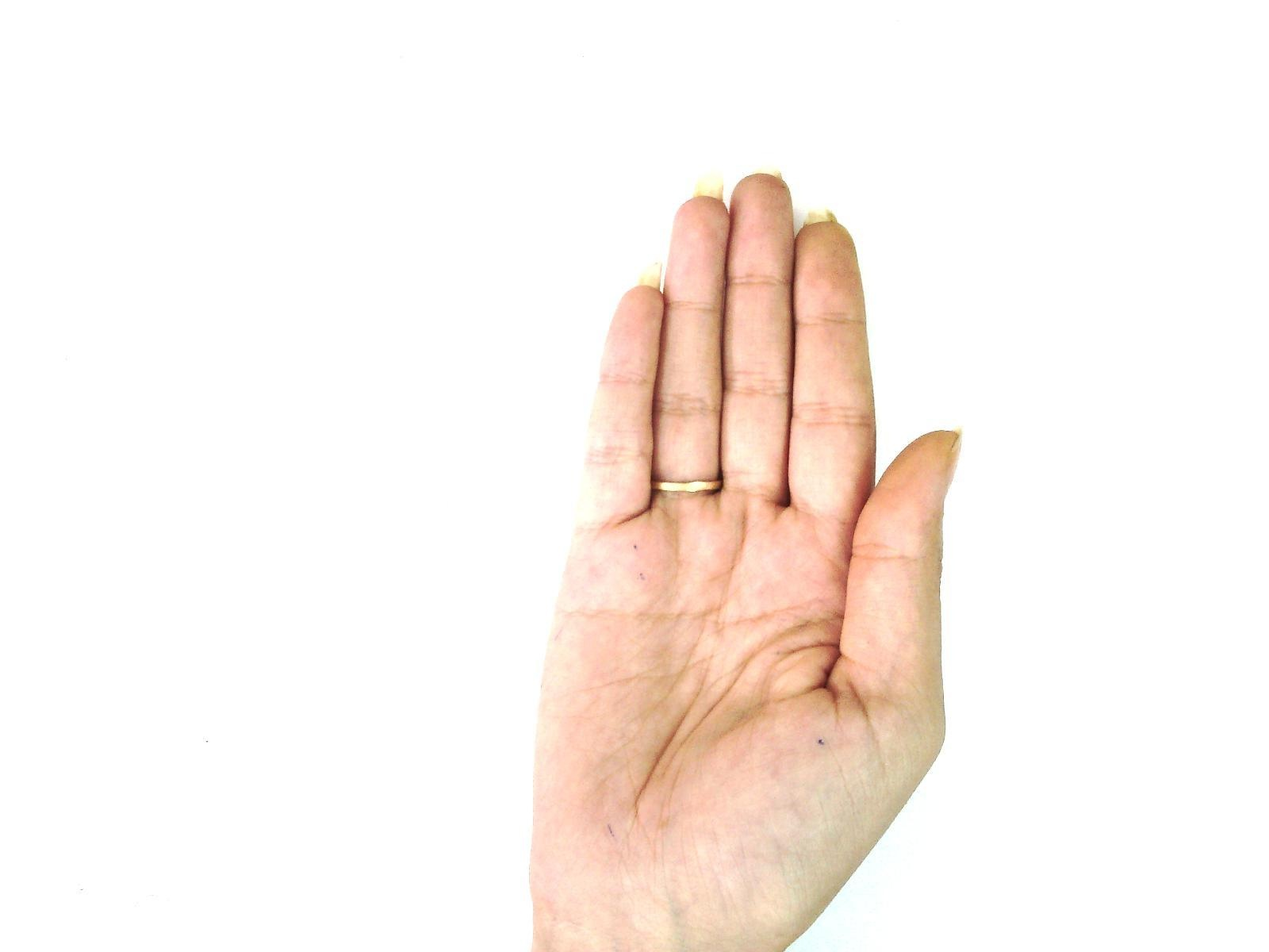open_palm: (525, 171, 965, 951)
